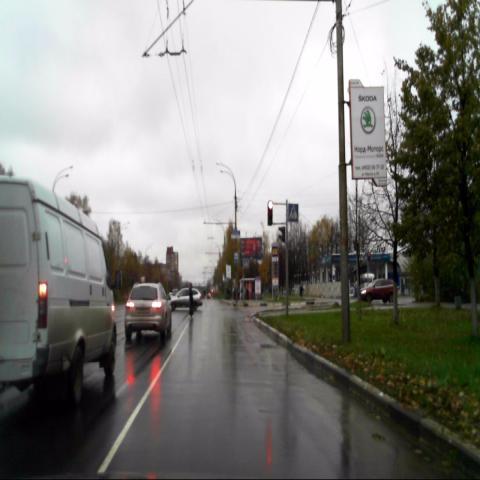5_19_1: (287, 204, 297, 222)
